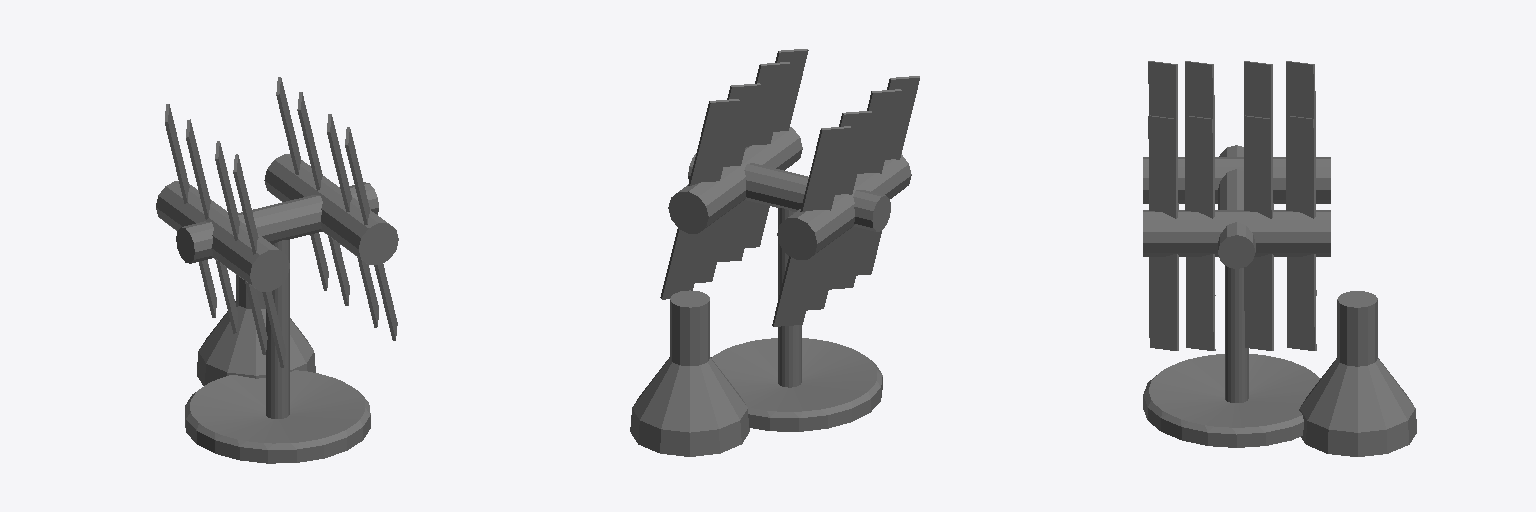
File: sciencestation_merged.obj
3 renders of one model, left to right at view 1: azimuth 30°, elevation 25°; view 2: azimuth 150°, elevation 25°; view 3: azimuth 270°, elevation 25°, orthographic.
Visible parts, largest first — view 1: polySurface1; view 2: polySurface1; view 3: polySurface1.
Boxes of the visible parts, x1=… form: polySurface1: x1=156, y1=77, x2=398, y2=463; polySurface1: x1=630, y1=49, x2=919, y2=456; polySurface1: x1=1143, y1=61, x2=1416, y2=456.
Size of the model in its own units: 2.25 by 3.66 by 2.91.